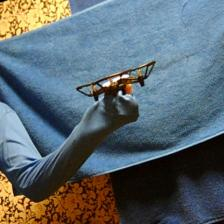drone: (76, 61, 158, 101)
